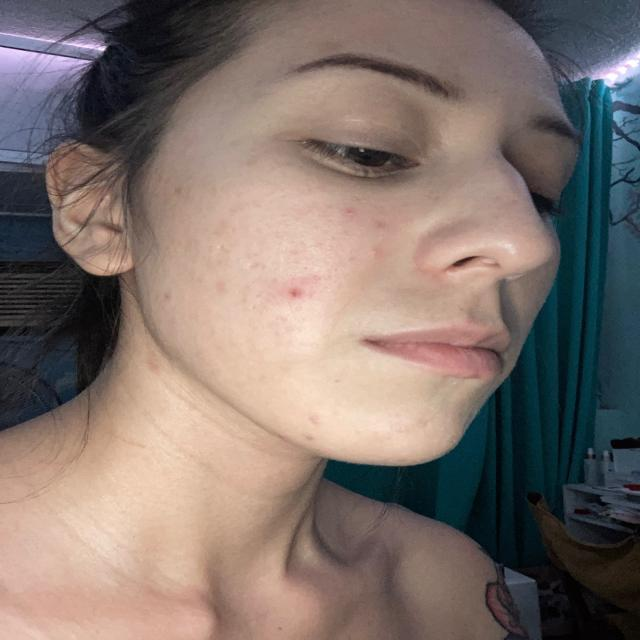Acne: (204, 280, 264, 312), (216, 236, 272, 268), (342, 206, 398, 235), (276, 278, 323, 308), (296, 402, 326, 445), (138, 354, 164, 382), (156, 290, 174, 304)
